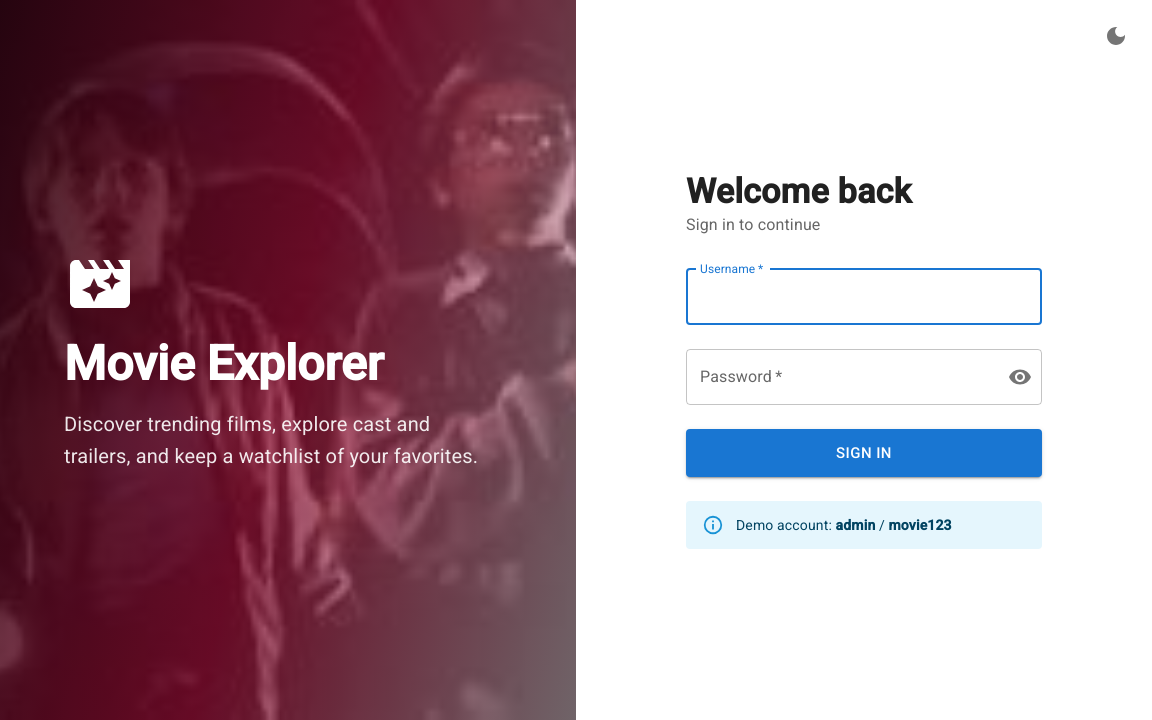
shows validation error when fields are empty
What coordinates should you click on to do the following:
click the button "Sign in"
I would click on:
 (864, 453)
Its box is [686, 429, 1042, 477].
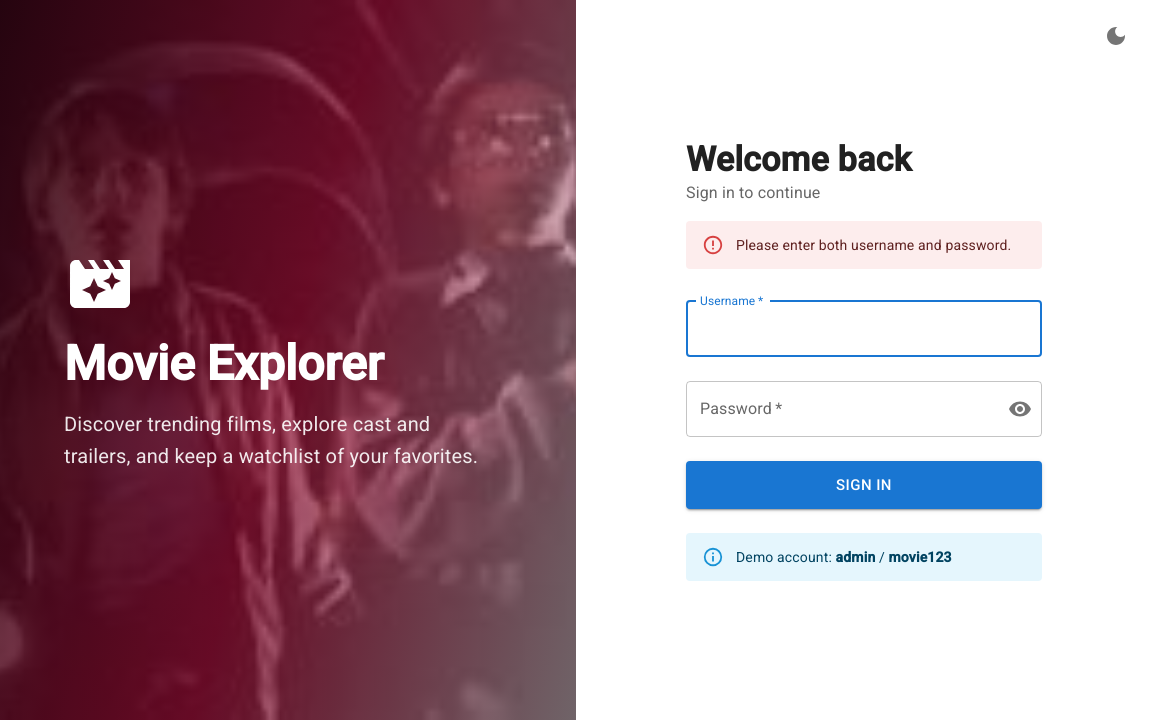
Now the text "Please enter both username and password." is shown, box [736, 237, 1011, 253]
